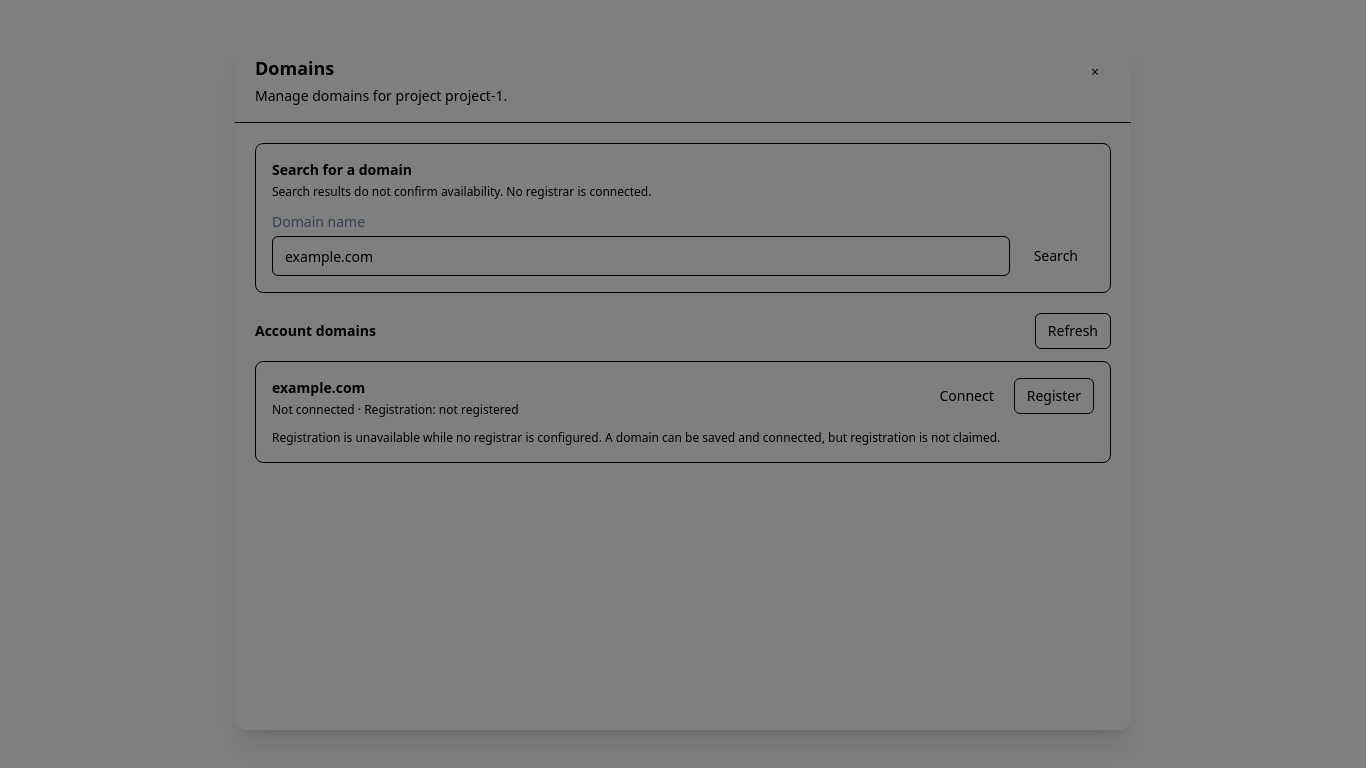
DomainPanel › shows pending DNS verification after a connection response
Click the button "Connect" at (967, 396), box left=927, top=378, right=1006, bottom=414
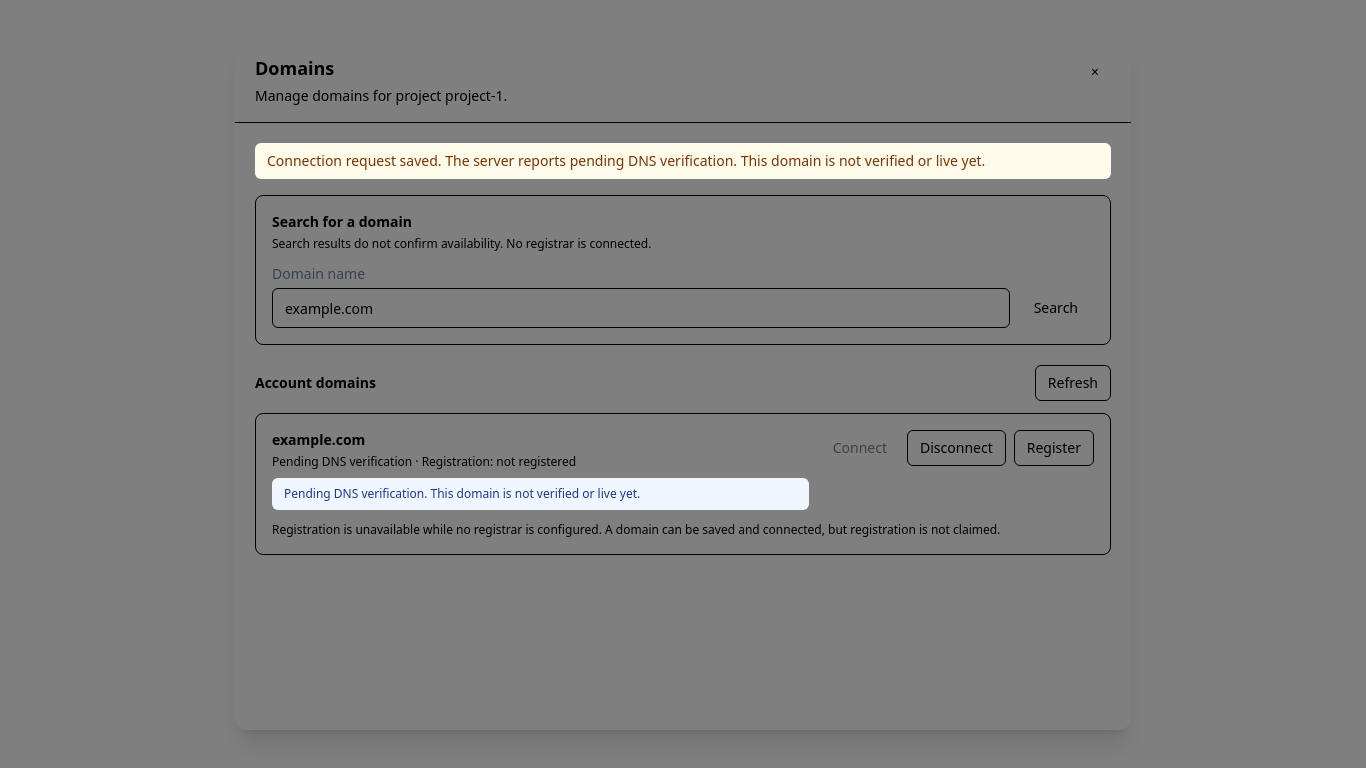
Check: the text "pending DNS verification" is shown, box left=267, top=151, right=985, bottom=170
Check: the text "not verified or live yet" is shown, box left=267, top=151, right=985, bottom=170
